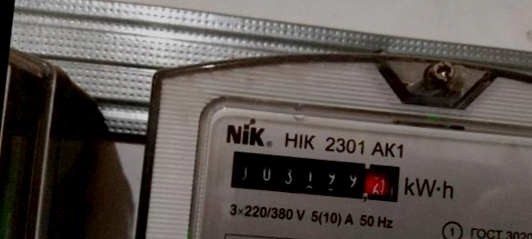0: (262, 161, 275, 181), (239, 159, 250, 178)
1: (306, 163, 317, 181)
3: (284, 163, 296, 184)
6: (371, 178, 383, 193)
9: (327, 164, 339, 185), (349, 168, 361, 187)
screen: (224, 137, 410, 210)
